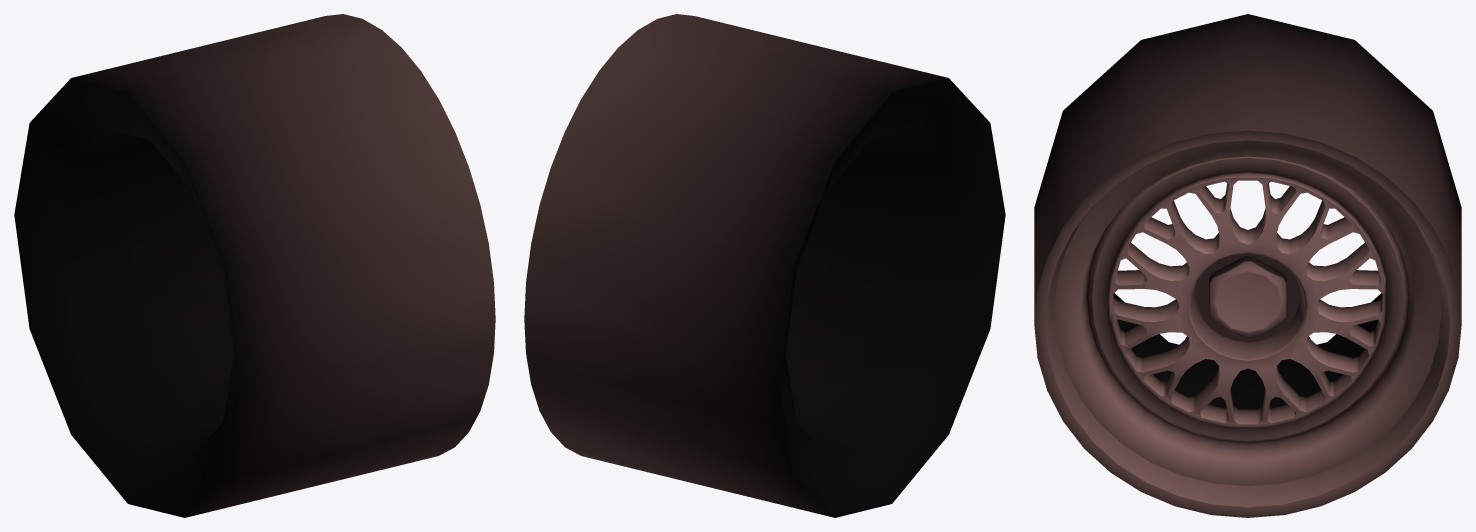
Rendered from MC_XJ220s_Carbon_WheelR.fbx.
3 renders of one model, left to right at view 1: azimuth 30°, elevation 25°; view 2: azimuth 150°, elevation 25°; view 3: azimuth 270°, elevation 25°, orthographic. The views are drawn at different scales.
Visible parts, largest first — view 1: MC_XJ220s_Carbon_WheelR; view 2: MC_XJ220s_Carbon_WheelR; view 3: MC_XJ220s_Carbon_WheelR.
Part boxes in pixels (box(x1,y1,x2,y2)): MC_XJ220s_Carbon_WheelR: box(14, 14, 495, 517); MC_XJ220s_Carbon_WheelR: box(524, 14, 1005, 517); MC_XJ220s_Carbon_WheelR: box(1034, 14, 1461, 517).
Size of the model in its own units: 32.08 by 49.7 by 49.7.
